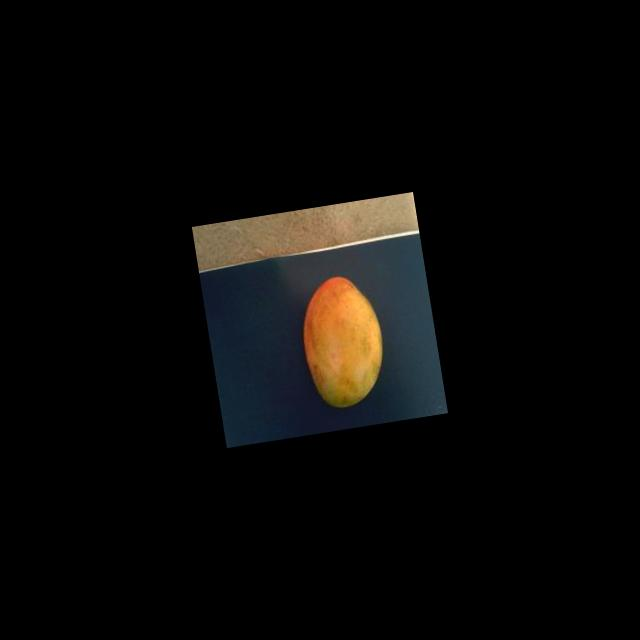Mango: (293, 270, 392, 414)
